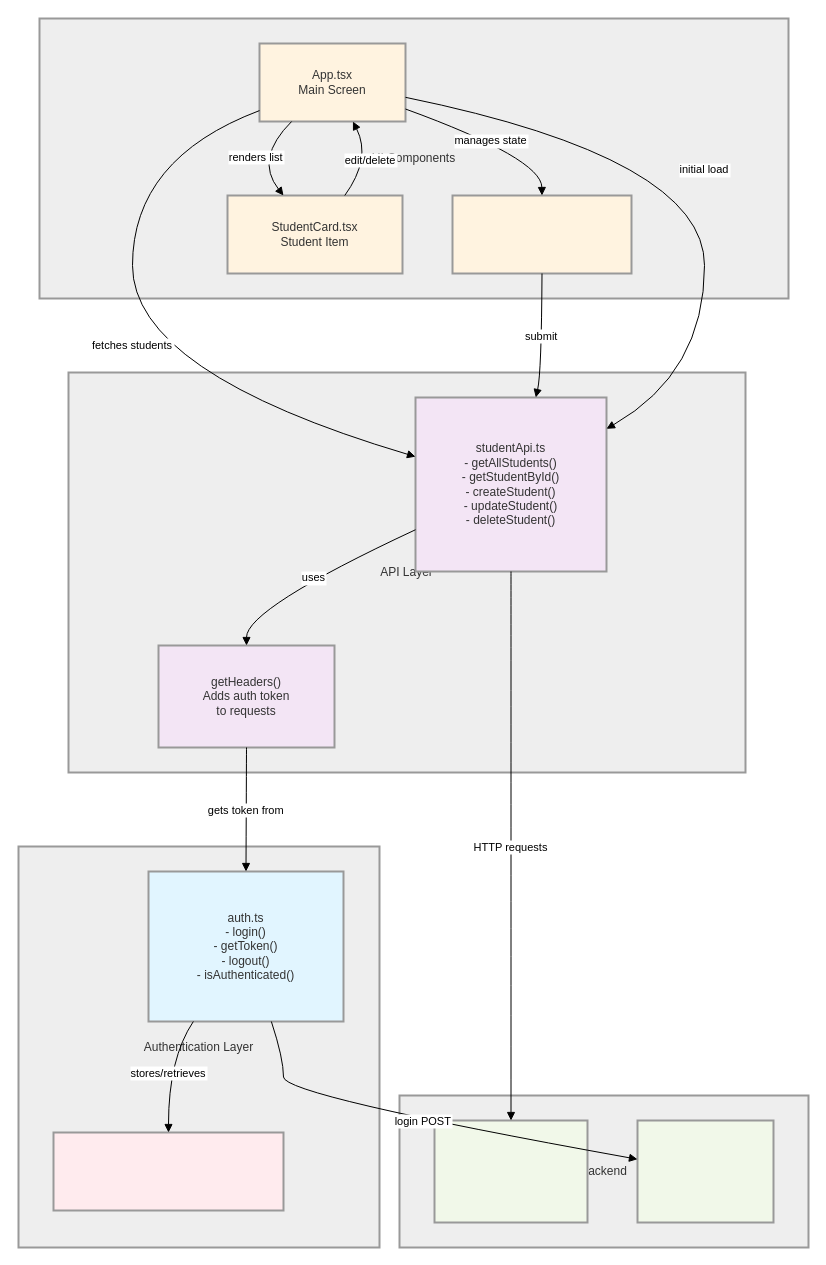
Image size: 826x1265. Some labels were removed from this diagram. Each missing label, with the centre of its shape:
"MockAPI.io Student Data BASE_URL" goes at point 510,1171.
"Reqres.in Login API AUTH_URL" goes at point 705,1171.
"StudentForm.tsx Add/Edit Form" goes at point 541,234.
"🔐 Token Storage authToken: string | null" goes at point 168,1171.
